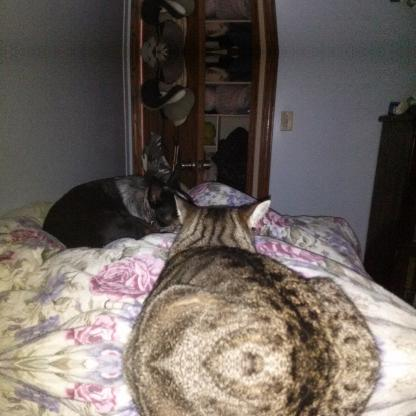Cat: (122, 193, 382, 362), (42, 156, 190, 250), (122, 365, 382, 415)
